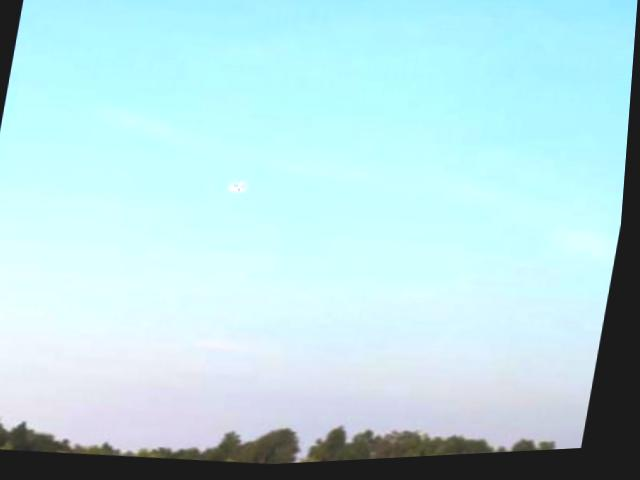uav: (225, 174, 259, 205)
